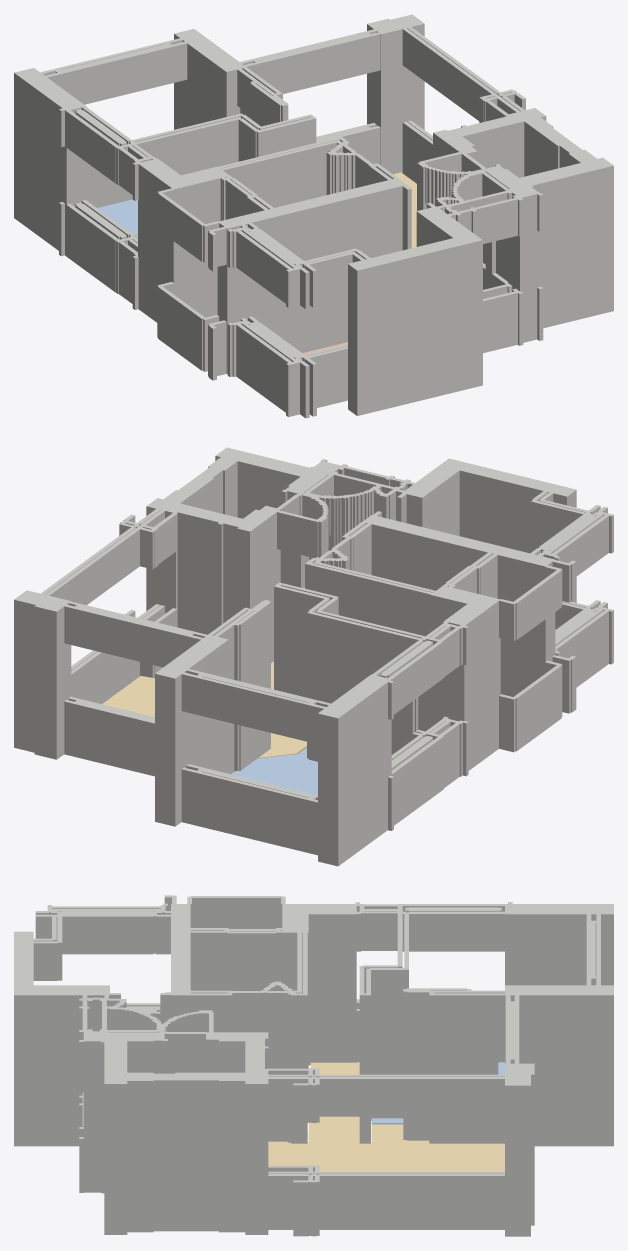
3 renders of one model, top to bottom at view 1: azimuth 30°, elevation 25°; view 2: azimuth 150°, elevation 25°; view 3: azimuth 270°, elevation 25°, orthographic. The views are drawn at different scales.
Parts seen in each view (by area): view 1: walls, room:bedroom:1; view 2: walls, room:bedroom:1, room:living:0; view 3: walls, room:living:0.
Boxes of the visible parts, left/top/right/bottom form: walls: left=14, top=14, right=613, bottom=418; room:bedroom:1: left=97, top=199, right=137, bottom=233; walls: left=14, top=447, right=613, bottom=866; room:bedroom:1: left=231, top=748, right=317, bottom=795; room:living:0: left=102, top=661, right=306, bottom=758; walls: left=14, top=895, right=613, bottom=1236; room:living:0: left=268, top=1062, right=504, bottom=1171.
Bounding box in the file's own units: 7.57 × 2.8 × 10.08.
